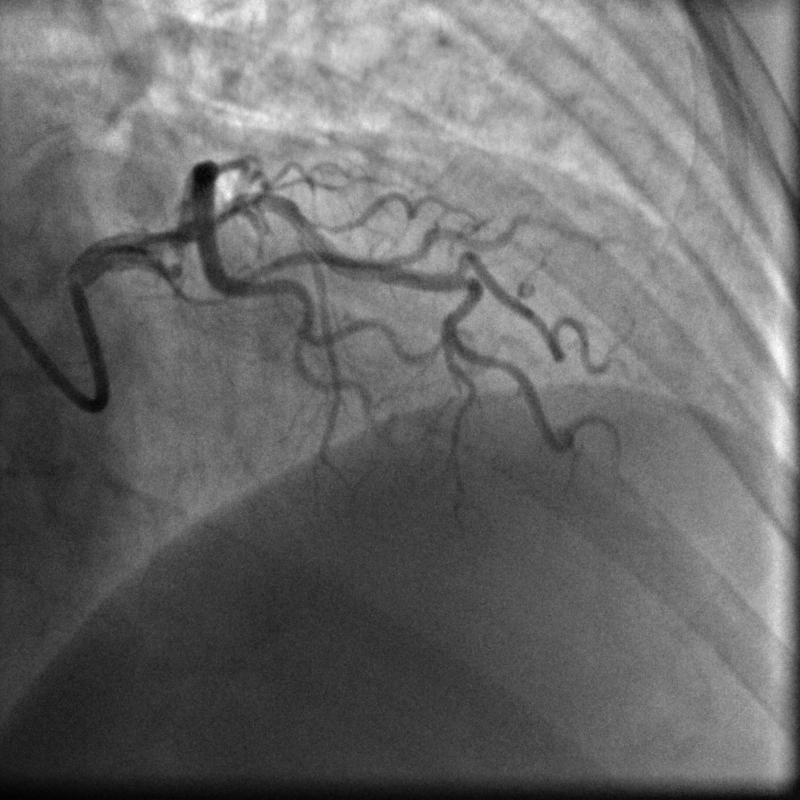Stenosis: (165, 238, 194, 283)
